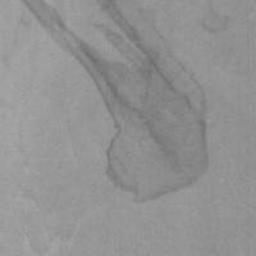Water spot: (24, 0, 214, 205), (200, 0, 233, 37)
